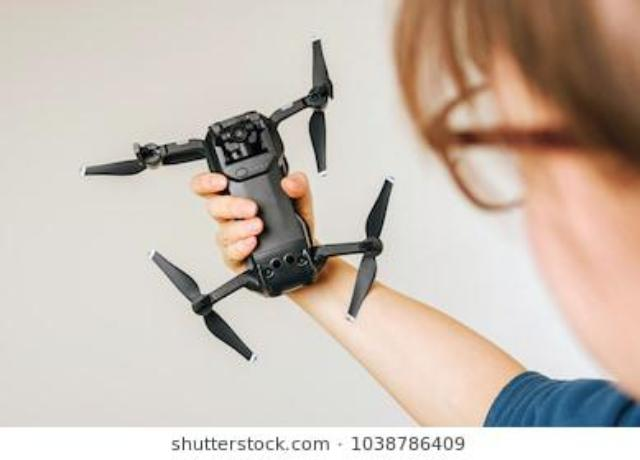drone: (79, 33, 412, 365)
